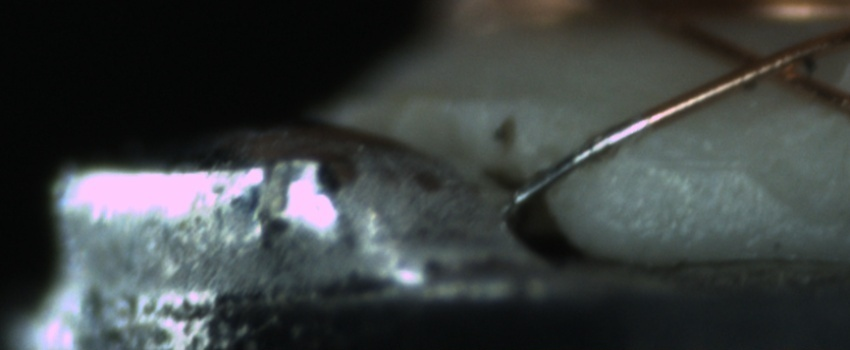CL: (706, 35, 828, 93)
DL: (601, 131, 753, 192)
TS: (514, 116, 651, 205)
TTCW: (515, 74, 740, 206)
